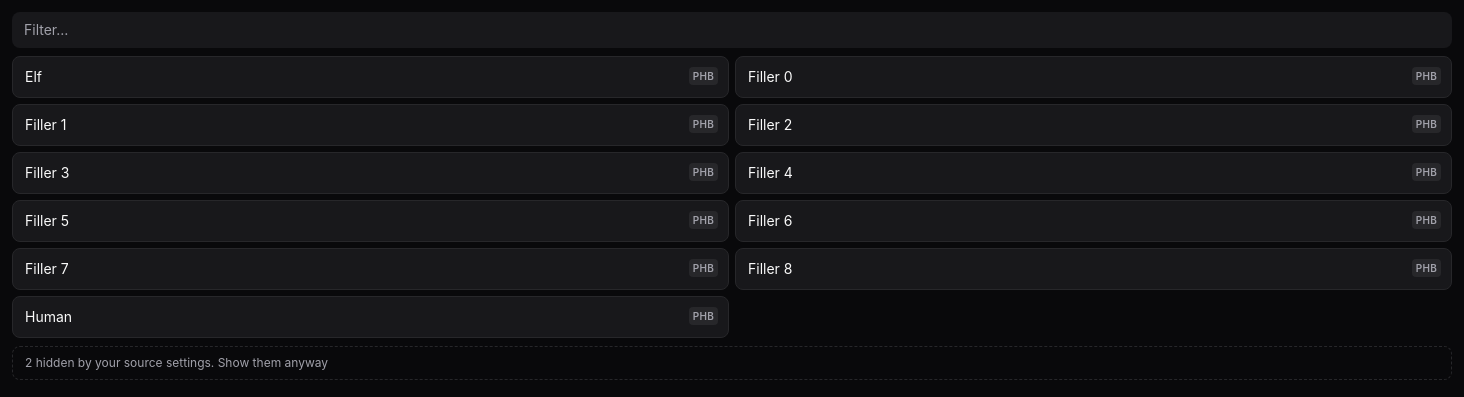
Test: EntityCardList source filtering › counts hidden entries against the text filter, not the whole list
The width and height of the screenshot is (1464, 397).
In the field with placeholder "Filter…": (732, 30) top-left (12, 12), bottom-right (1452, 48), type "elf"
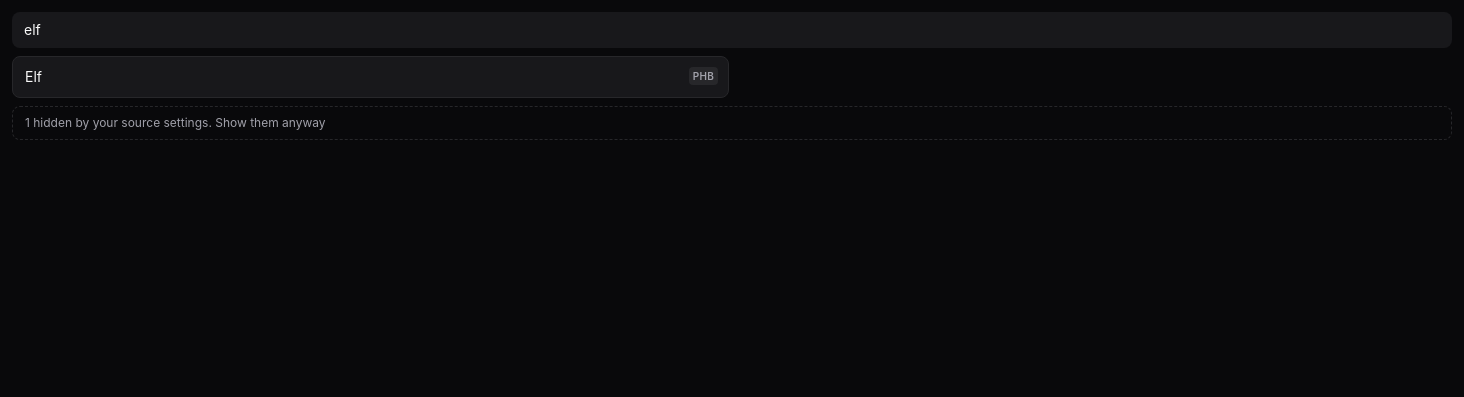
Expected: the button "2 hidden by your source settings" is gone
Expected: the button "1 hidden by your source settings. Show them anyway" is shown, top-left (12, 106), bottom-right (1452, 140)
